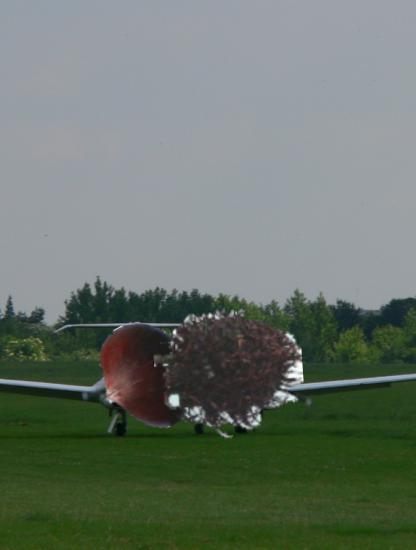Chestnut: (90, 320, 203, 433)
Rambutan: (155, 298, 303, 446)
